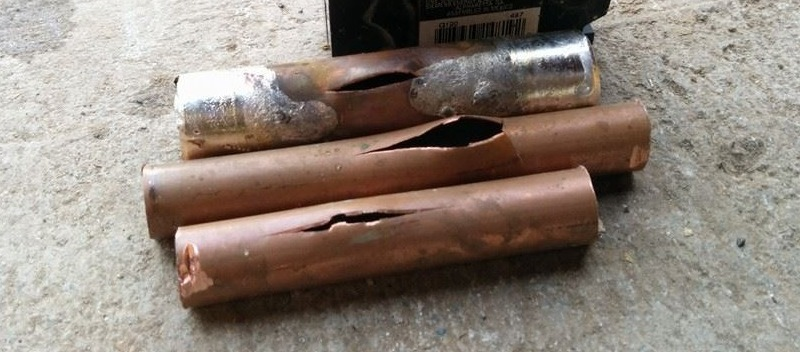crack: (262, 203, 458, 243)
rupture: (349, 112, 517, 164), (319, 66, 430, 101)
